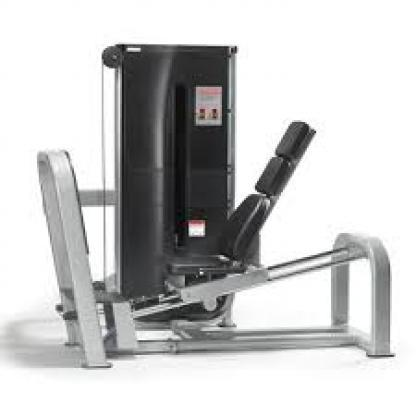leg press: (30, 36, 397, 367)
